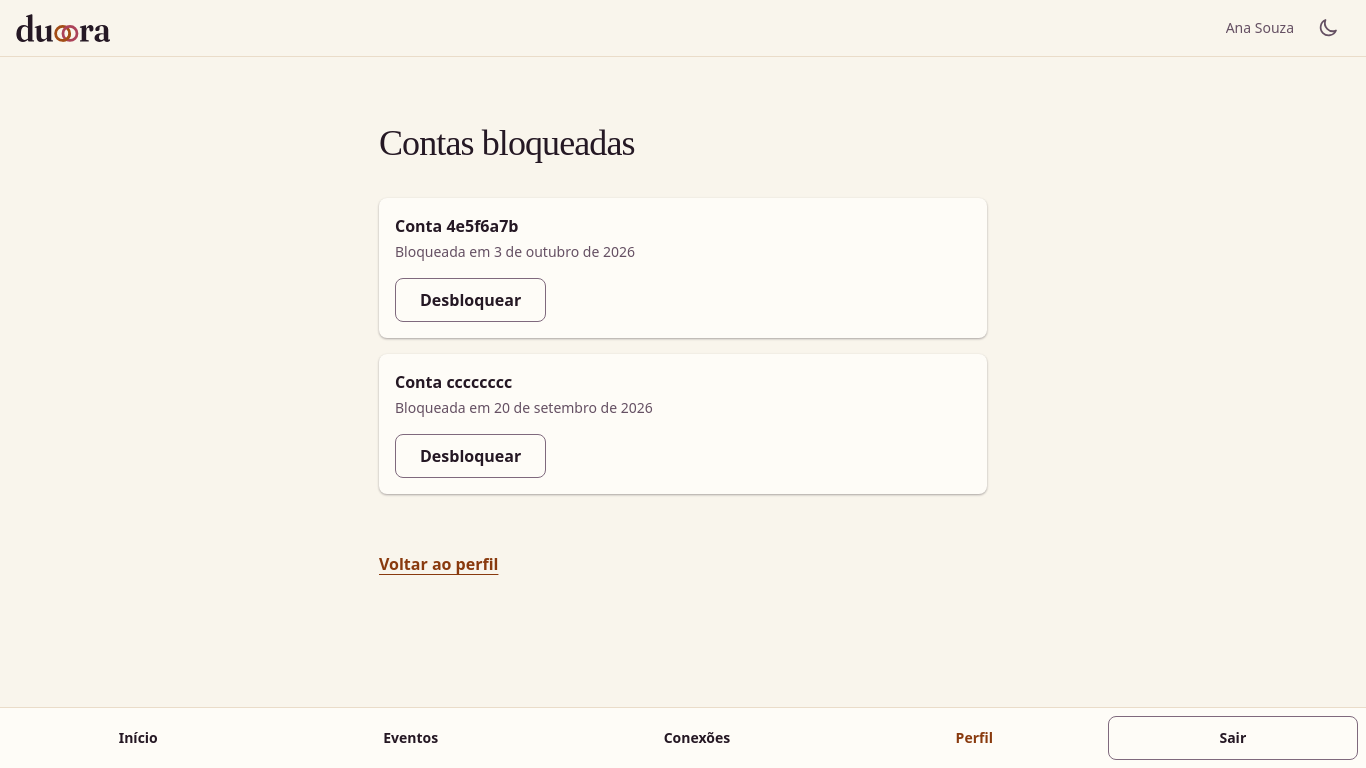
it: blocked accounts page › unblocks on confirmation, with the CSRF token, and takes the account off the list
This screenshot has width=1366, height=768.
Click the button "Desbloquear" below "Conta 4e5f6a7b". click: [471, 300]
box: [395,278,546,322]
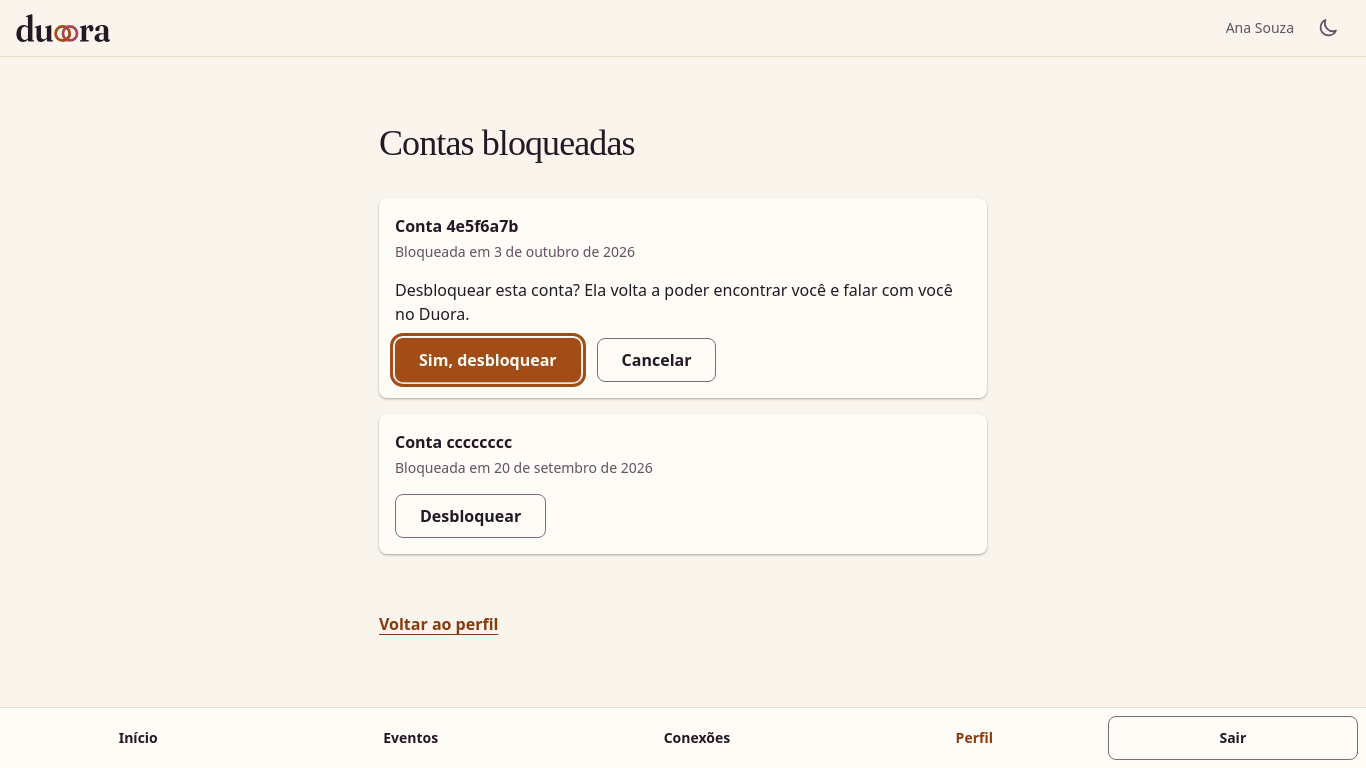
Click the button "Sim, desbloquear". click: [488, 360]
box: [395,338,581,382]
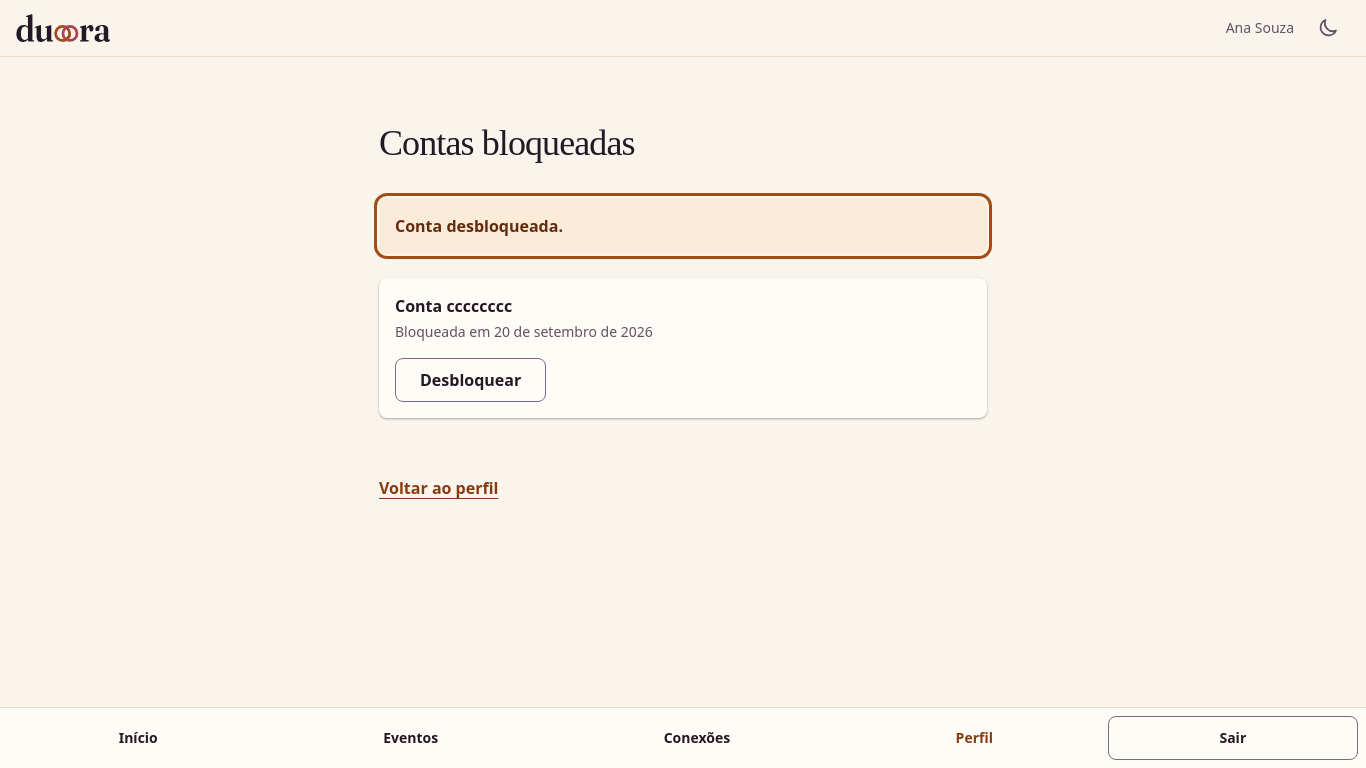
Expected: the text "Bloqueada em 20 de setembro de 2026" is shown, [395,322,653,341]
Expected: the message reads "Conta desbloqueada.", [395,215,563,237]
Expected: the text "Bloqueada em 3 de outubro de 2026" is gone
